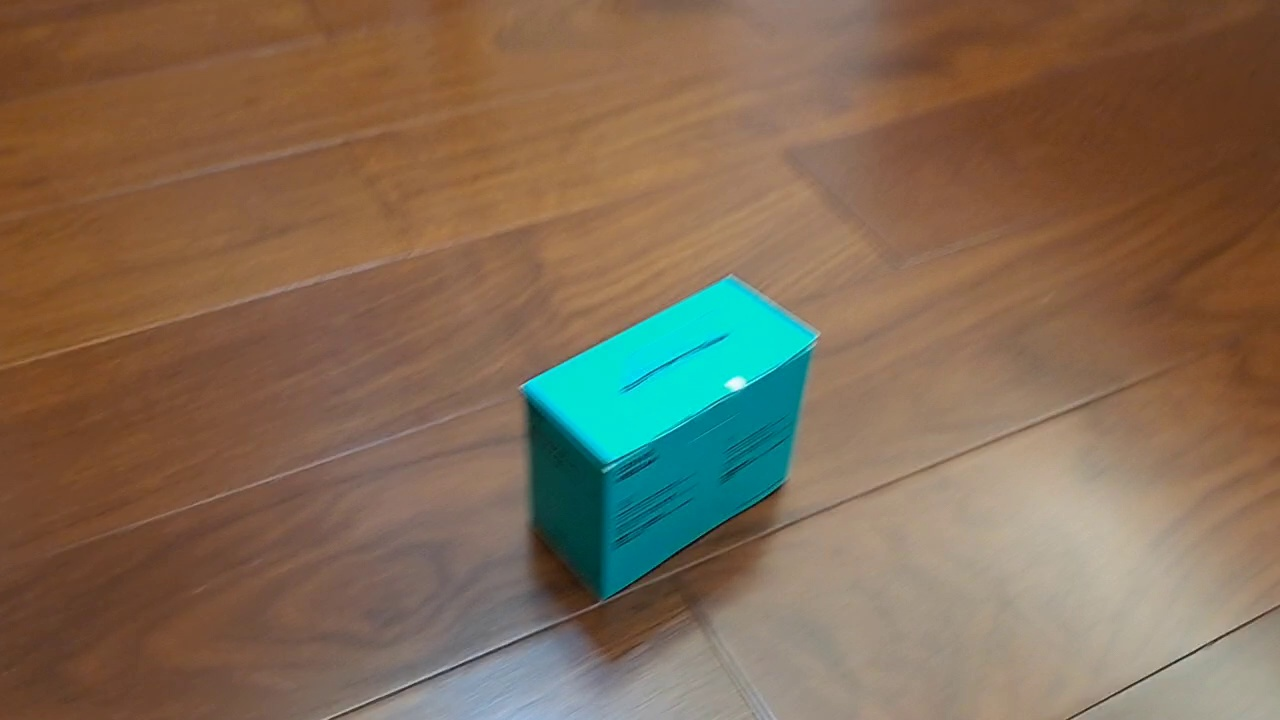webcam: (516, 271, 822, 603)
